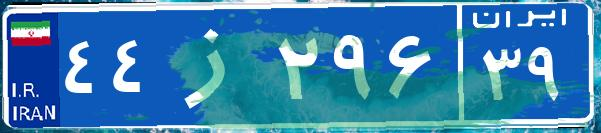2: (273, 28, 330, 110)
3: (475, 38, 525, 113)
4: (57, 26, 110, 107), (110, 28, 158, 105)
6: (385, 28, 445, 110)
9: (330, 28, 385, 110), (525, 38, 570, 115)
ز: (158, 15, 273, 115)
